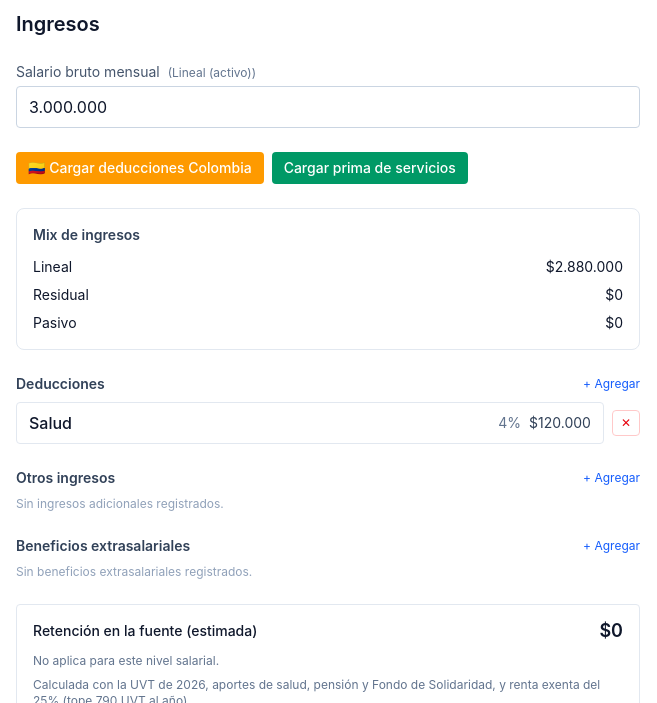
Test: IncomeView (20260529-metricas-runway-ingresos) › TC-C-063 (AC-3.2): stream form includes income class select with three options
Click the button "+ Agregar" in the row of "Otros ingresos" at (612, 478), box 583,470 -> 640,486
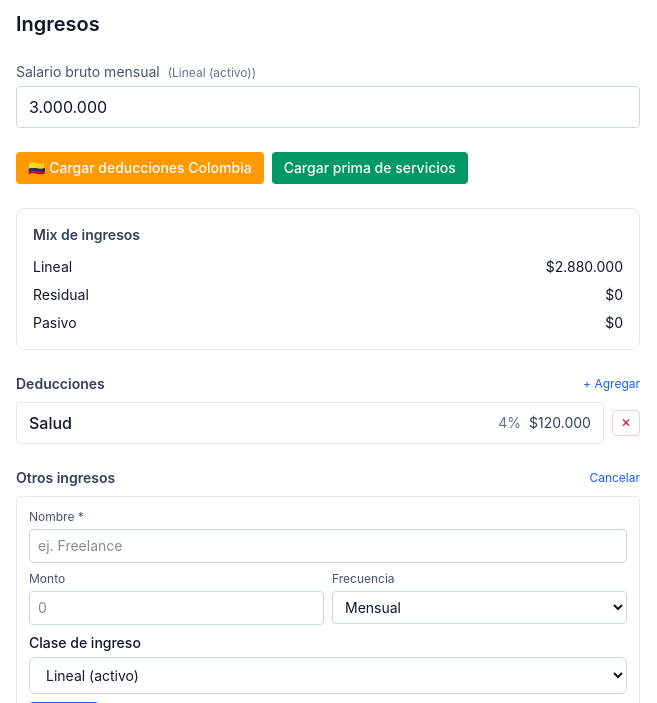
Result: the dropdown with test id "income-class-select" is shown at 29,657 -> 627,694
